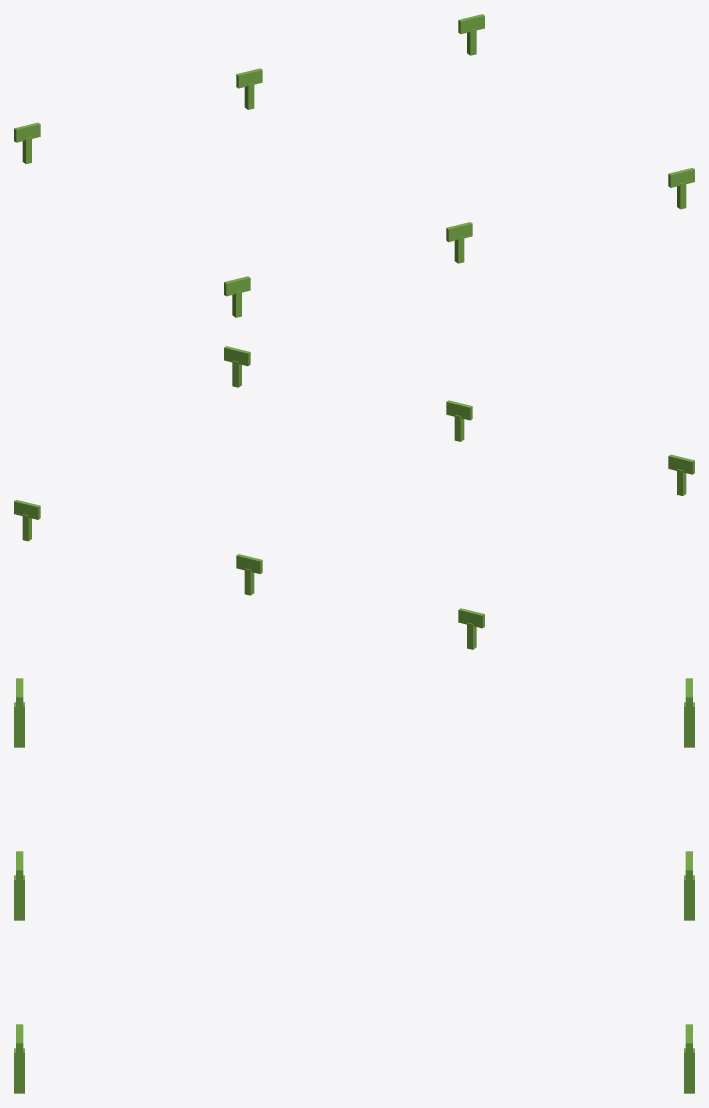
File: carrot_sprout.glb
3 views of the same model, one above another, from view 1: azimuth 30°, elevation 25°; view 2: azimuth 150°, elevation 25°; view 3: azimuth 270°, elevation 25° (orthographic). The views are drawn at different scales.
Parts seen in each view (by area): view 1: carrot_sprout; view 2: carrot_sprout; view 3: carrot_sprout.
Part boxes in pixels (bbox=[...]): carrot_sprout: bbox=[14, 14, 694, 317]; carrot_sprout: bbox=[14, 346, 694, 649]; carrot_sprout: bbox=[14, 678, 694, 1093].
Bounding box in the file's own units: 1.16 × 0.085 × 0.915.
1 material, 1 textured.
